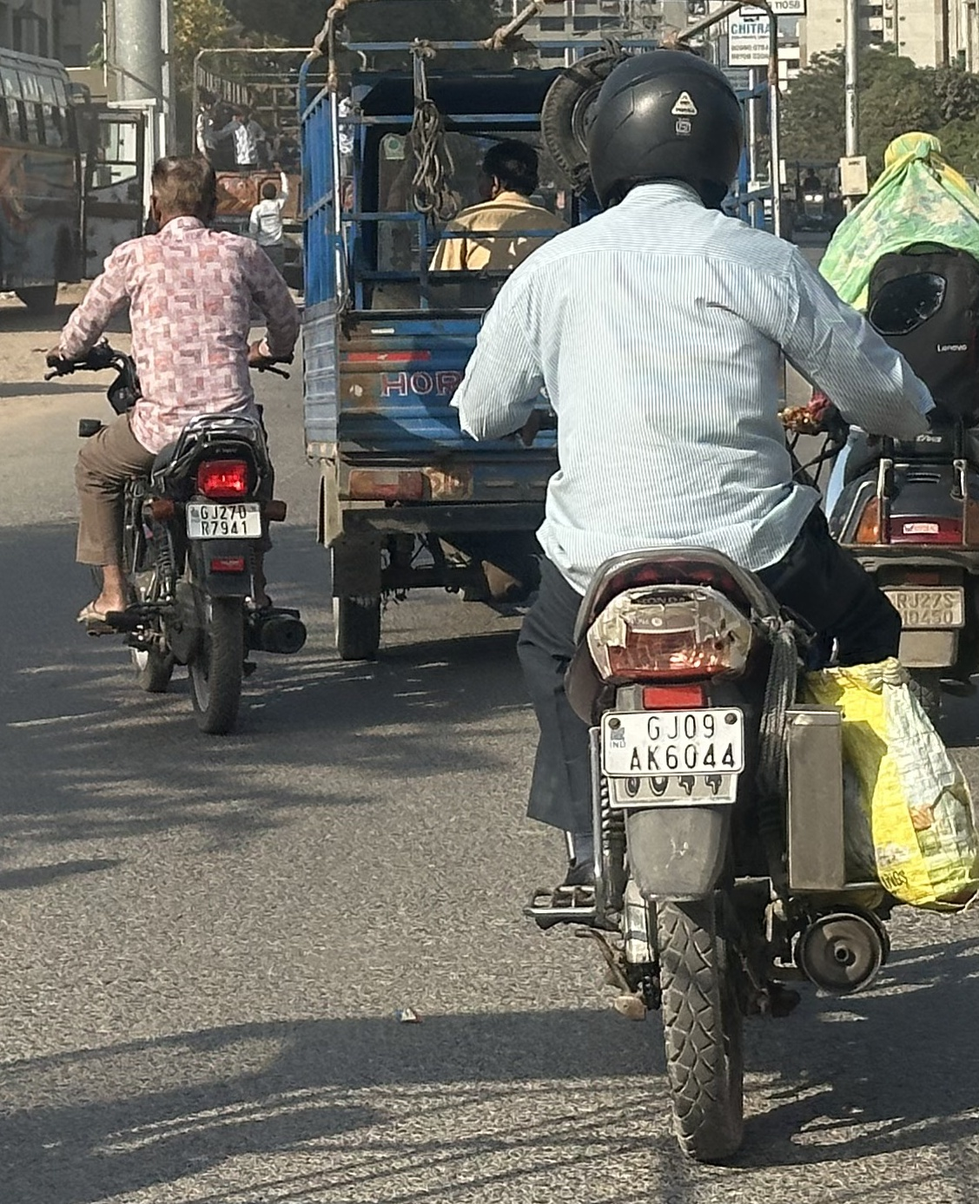BikeWithRider: (449, 45, 979, 1161), (39, 144, 301, 748), (808, 121, 979, 732)
Helmet: (582, 47, 757, 226)
NoHelmet: (149, 146, 225, 245), (880, 122, 961, 206)
